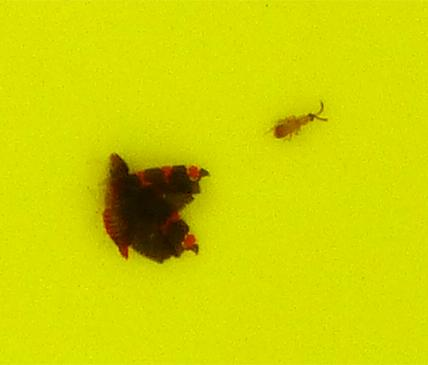Coleoptera: (269, 100, 328, 142)
Hemiptera: (100, 151, 210, 265)
